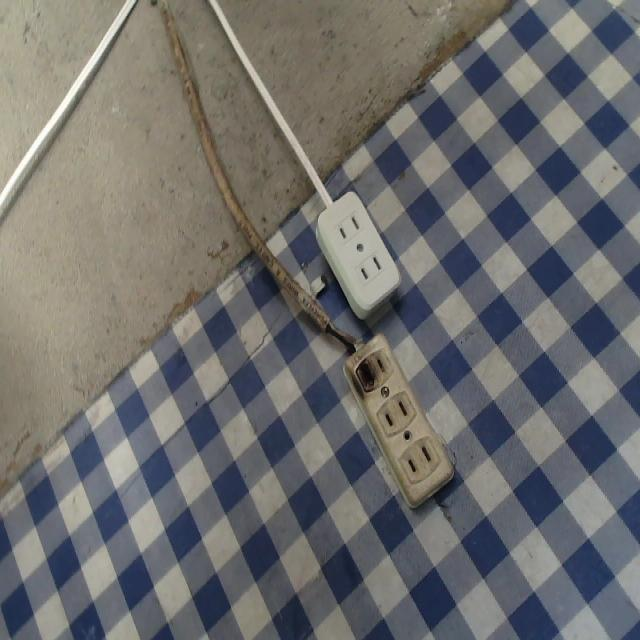-: (342, 349, 382, 399)
